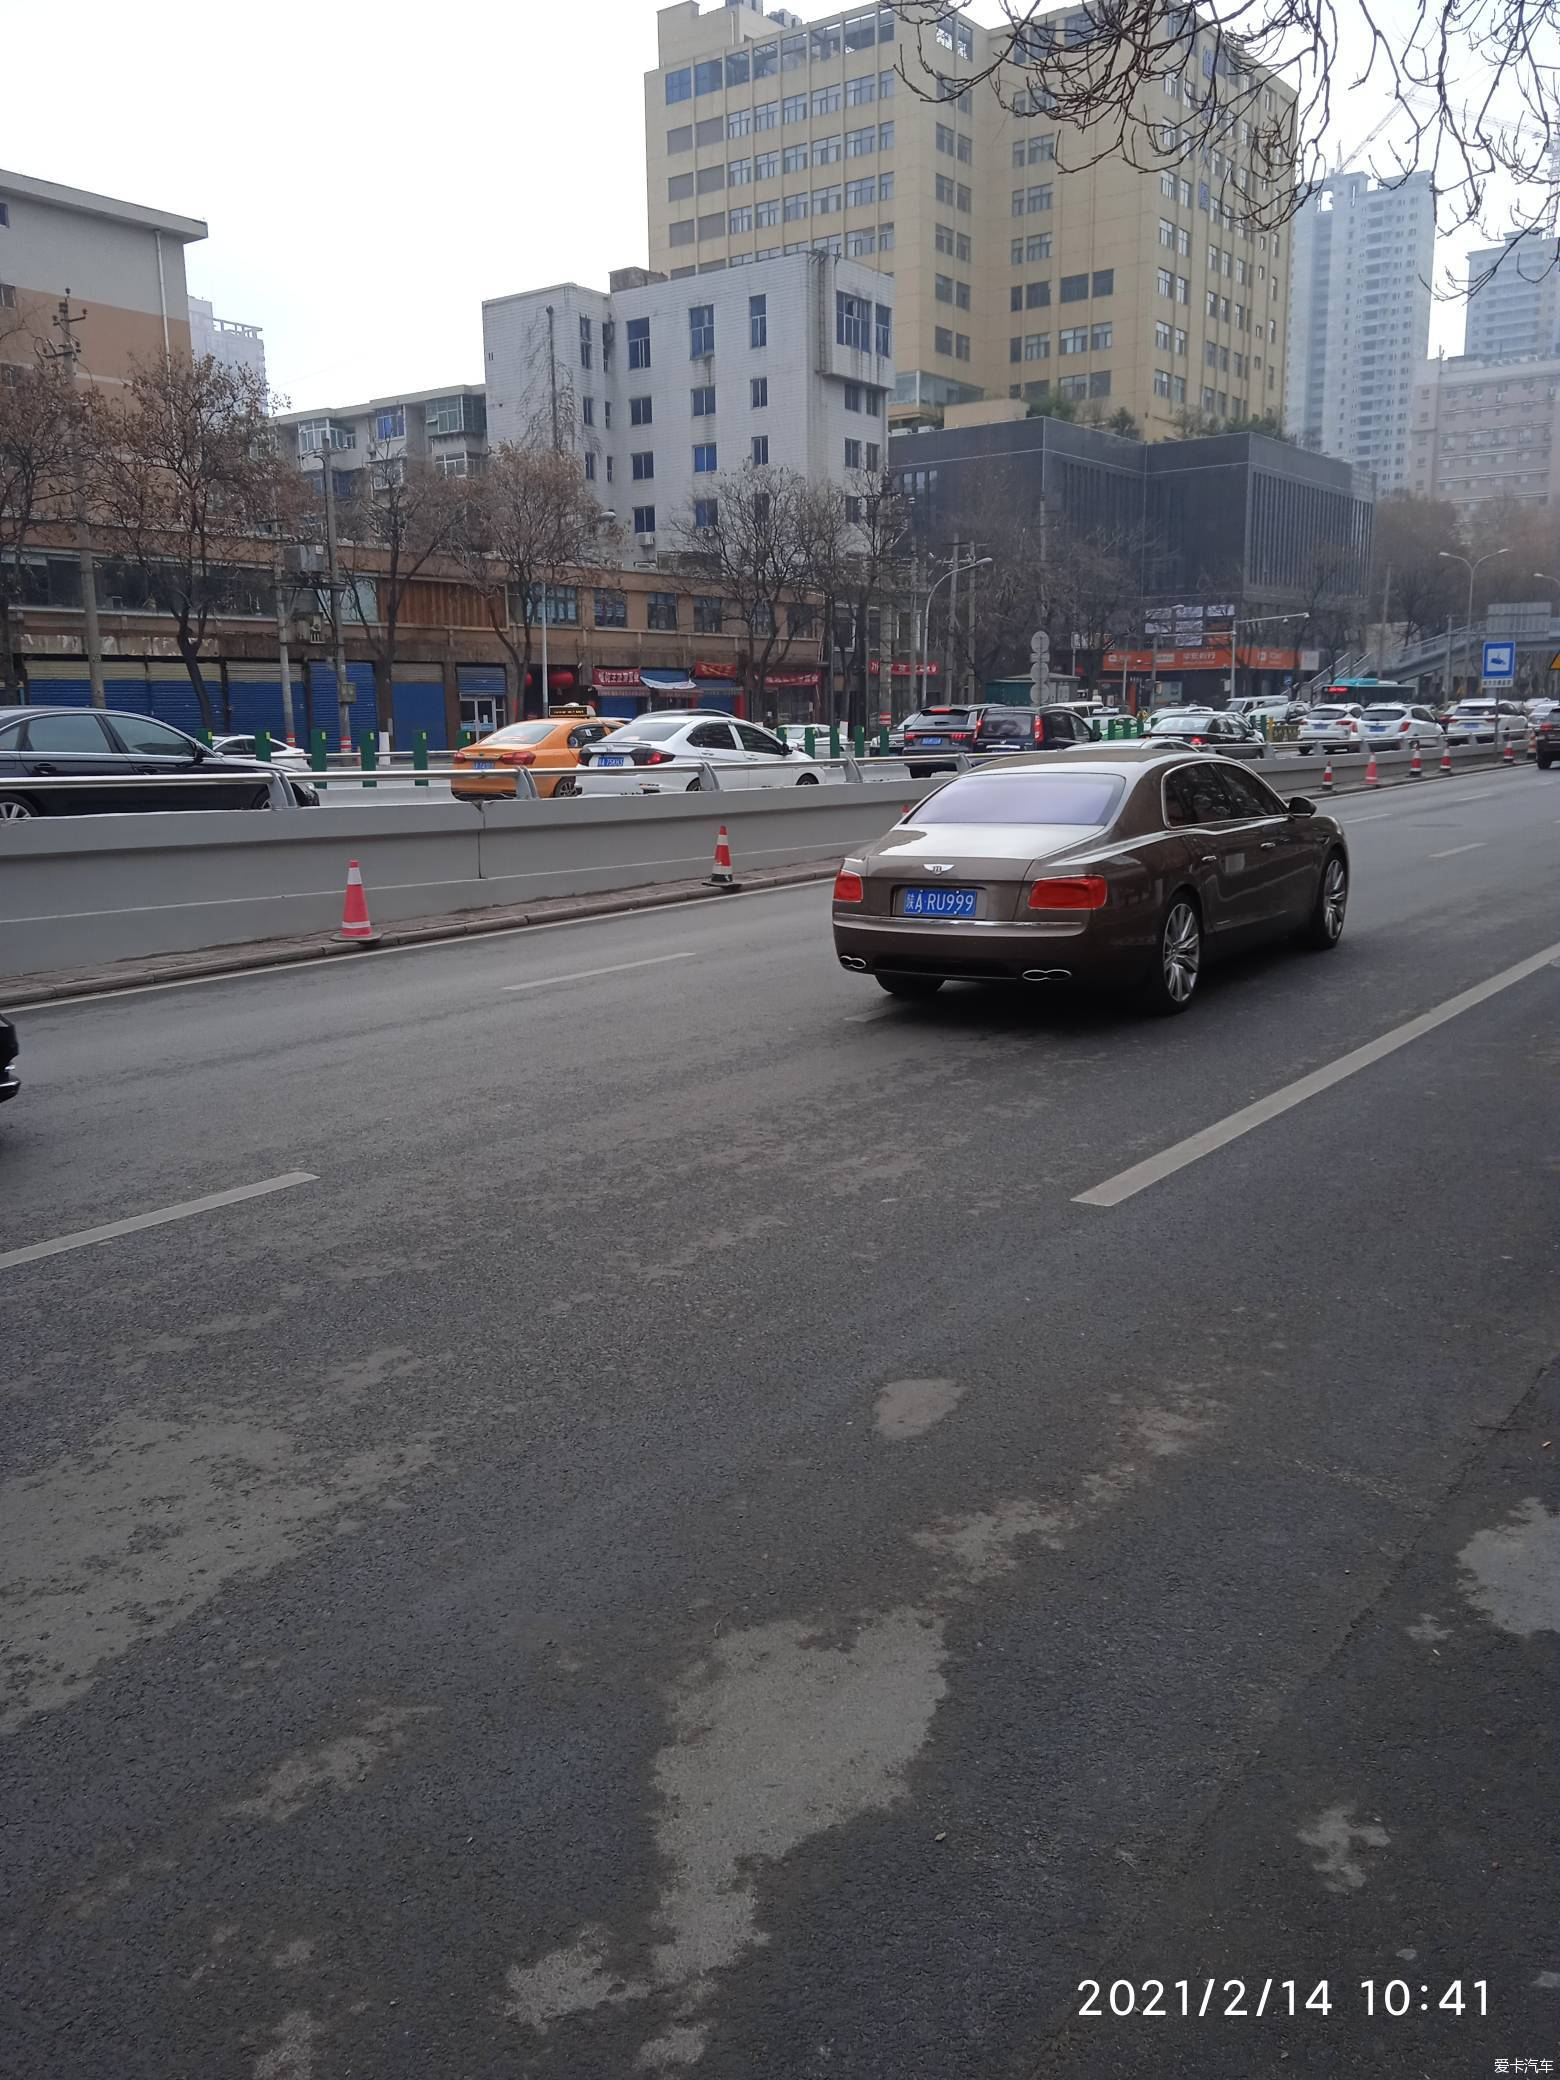car: (832, 740, 1357, 1025), (16, 694, 287, 855), (433, 694, 642, 811)
